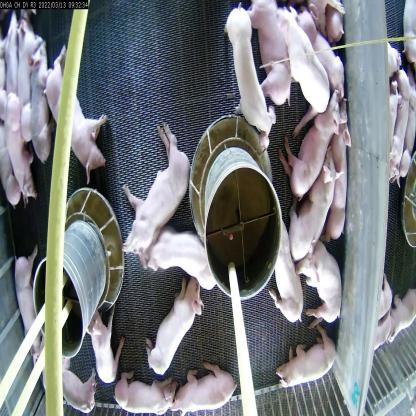Pig: (121, 122, 191, 263), (224, 0, 277, 158), (282, 70, 342, 208), (44, 47, 106, 173), (146, 267, 207, 377), (272, 1, 329, 118), (282, 148, 338, 264), (243, 0, 293, 123), (147, 223, 222, 294), (295, 5, 351, 99), (319, 102, 355, 242), (265, 210, 303, 332), (298, 236, 344, 332), (42, 350, 106, 415), (10, 252, 48, 359), (278, 324, 342, 386), (0, 86, 35, 192), (13, 10, 40, 146), (171, 362, 240, 415), (28, 43, 55, 167), (82, 307, 124, 385), (115, 372, 177, 415), (391, 70, 411, 180), (319, 2, 354, 44)
